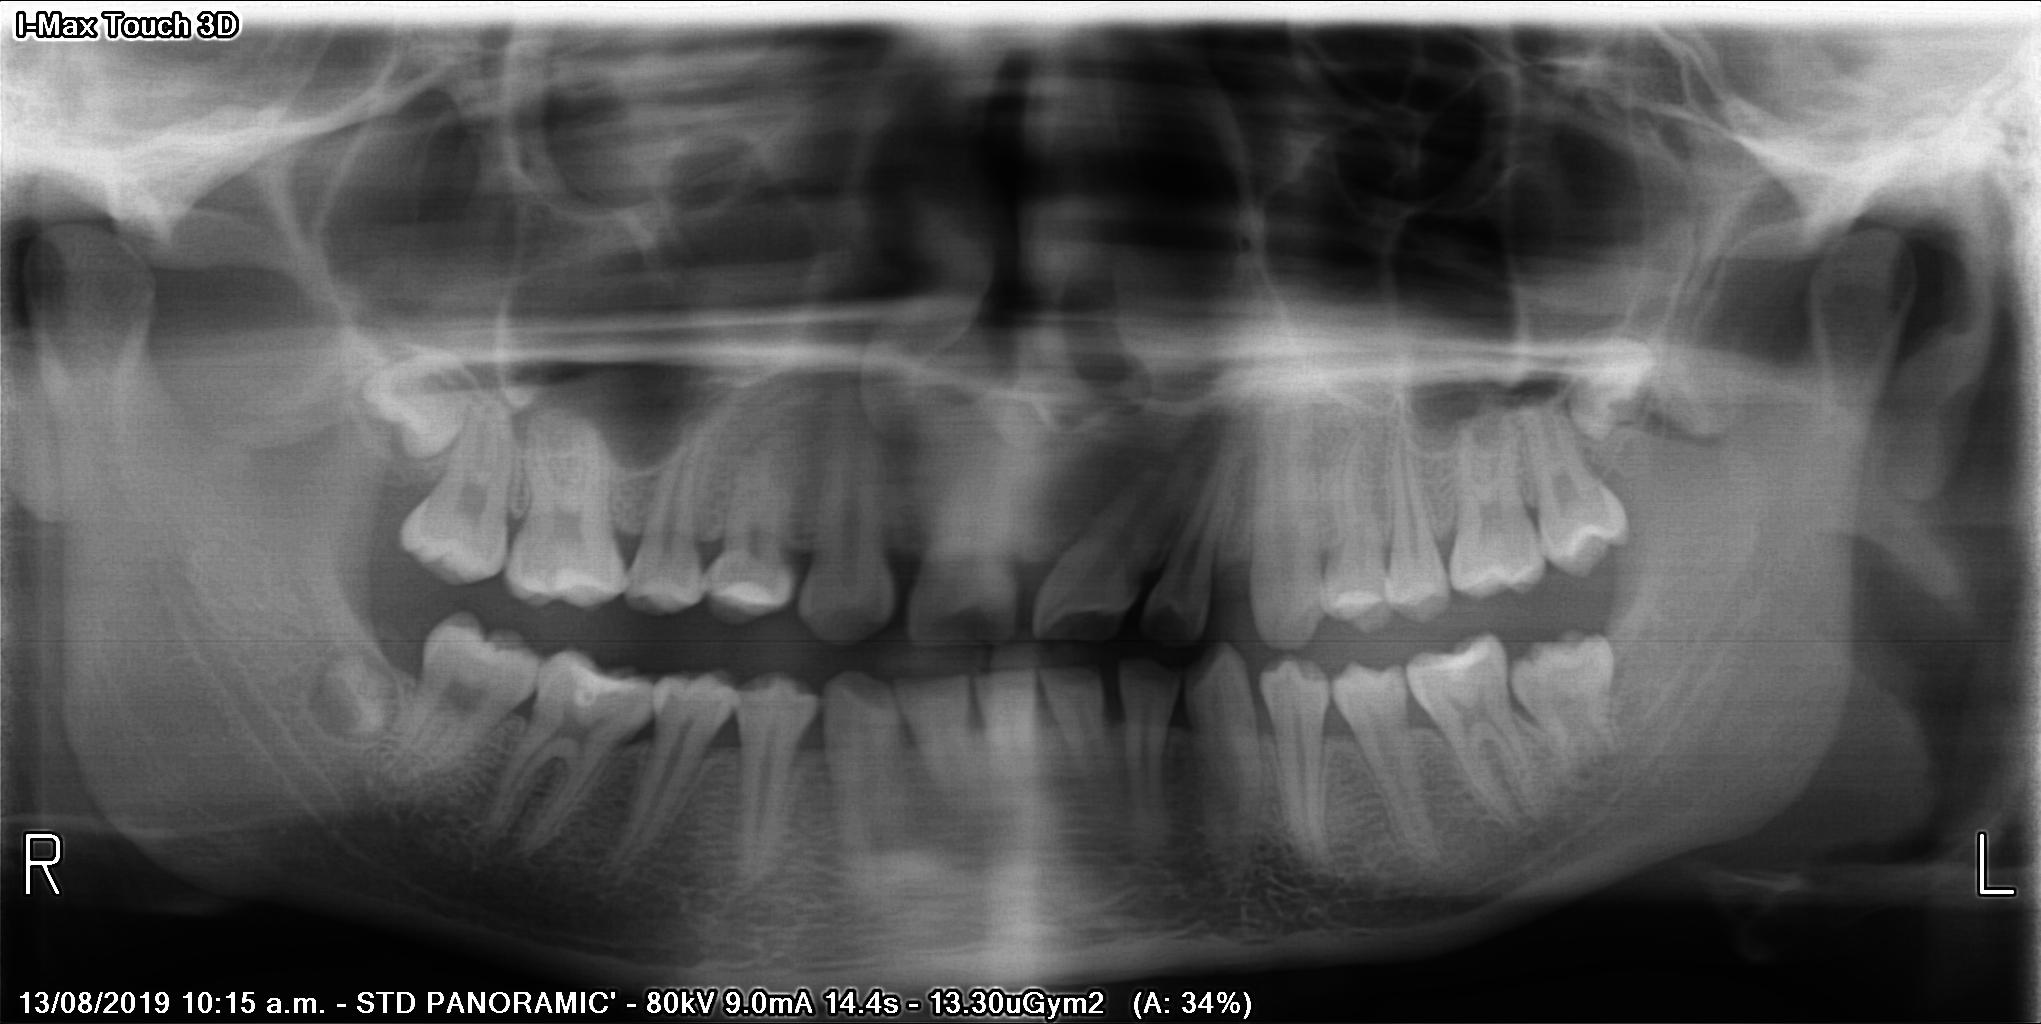Çürük: (720, 562, 793, 614)
